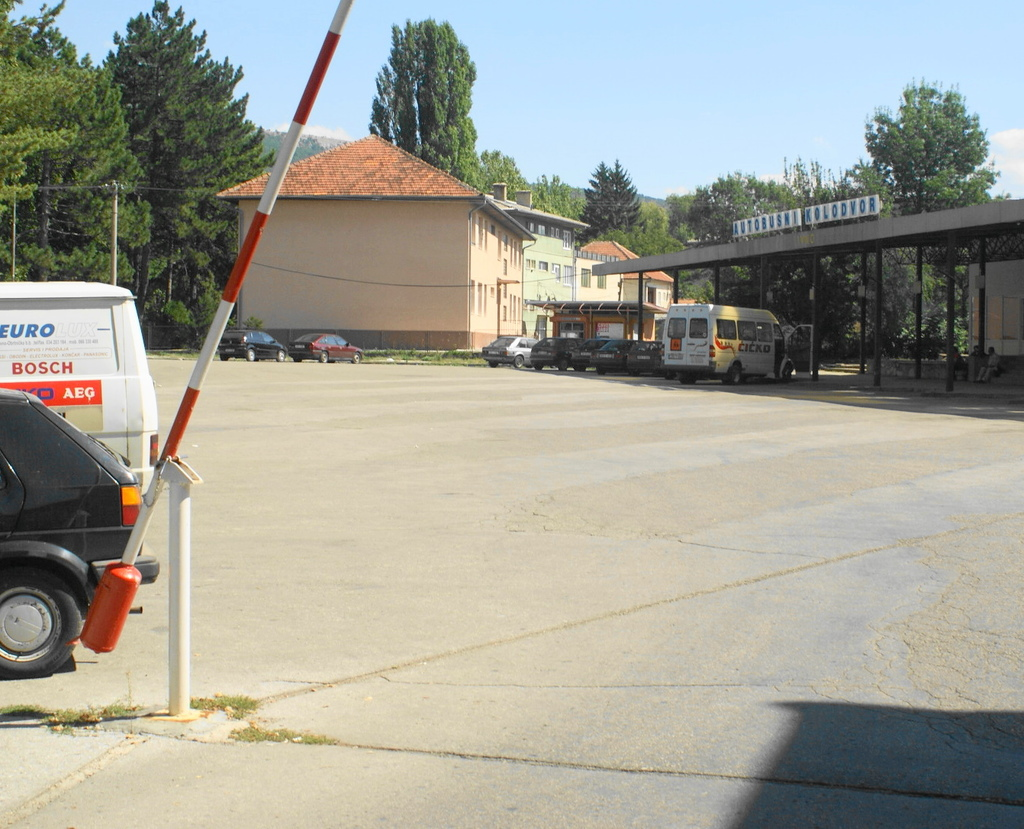cars: (5, 378, 178, 682), (481, 336, 666, 373), (289, 328, 364, 362), (218, 329, 290, 360)
